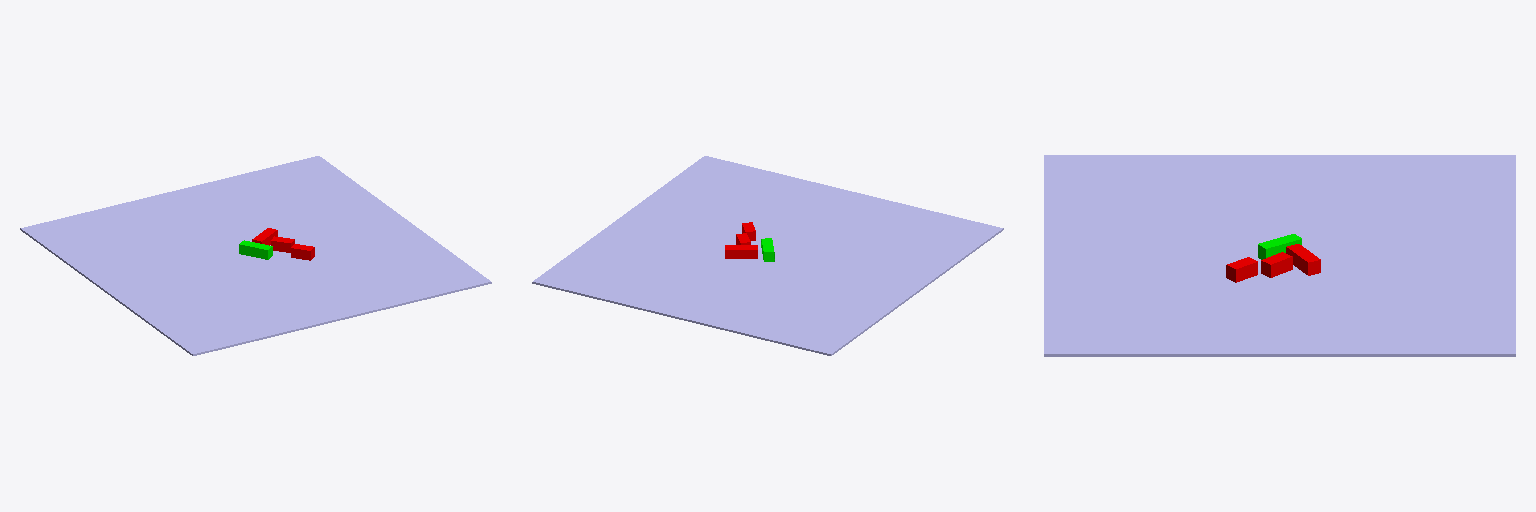
The robot description file, URDF, robot "continuous_space":
<?xml version="1.0"?>
<!-- created with Phobos 1.0.1 "Capricious Choutengan" -->
  <robot name="continuous_space">

    <link name="base_link">
      <inertial>
        <origin xyz="0 0 0" rpy="0 0 0"/>
        <mass value="0.001"/>
        <inertia ixx="0.001" ixy="0" ixz="0" iyy="0.001" iyz="0" izz="0.001"/>
      </inertial>
      <visual name="visual_cube_base">
        <origin xyz="0 0 0" rpy="0 0 0"/>
        <geometry>
          <box size="32.0 32.0 0.2"/>
        </geometry>
        <material name="lavender"/>
      </visual>
      <collision name="collision_cube_base">
        <origin xyz="0 0 0" rpy="0 0 0"/>
        <geometry>
          <box size="32.0 32.0 0.2"/>
        </geometry>
      </collision>
    </link>

    <link name="link_0">
      <inertial>
        <origin xyz="0 0 0" rpy="0 0 0"/>
        <mass value="0.001"/>
        <inertia ixx="0.001" ixy="0" ixz="0" iyy="0.001" iyz="0" izz="0.001"/>
      </inertial>
      <visual name="visual_cube_0">
        <origin xyz="0 0 0" rpy="0 0 0"/>
        <geometry>
          <box size="3.0 1.0 1.0"/>
        </geometry>
        <material name="green"/>
      </visual>
      <collision name="collision_cube_0">
        <origin xyz="0 0 0" rpy="0 0 0"/>
        <geometry>
          <box size="3.0 1.0 1.0"/>
        </geometry>
      </collision>
    </link>

    <link name="link_1">
      <inertial>
        <origin xyz="0 0 0" rpy="0 0 0"/>
        <mass value="0.001"/>
        <inertia ixx="0.001" ixy="0" ixz="0" iyy="0.001" iyz="0" izz="0.001"/>
      </inertial>
      <visual name="visual_cube_1">
        <origin xyz="0 0 0" rpy="0 0 0"/>
        <geometry>
          <box size="3.0 1.0 1.0"/>
        </geometry>
        <material name="red"/>
      </visual>
      <collision name="collision_cube_1">
        <origin xyz="0 0 0" rpy="0 0 0"/>
        <geometry>
          <box size="3.0 1.0 1.0"/>
        </geometry>
      </collision>
    </link>

    <link name="link_2">
      <inertial>
        <origin xyz="0 0 0" rpy="0 0 0"/>
        <mass value="0.001"/>
        <inertia ixx="0.001" ixy="0" ixz="0" iyy="0.001" iyz="0" izz="0.001"/>
      </inertial>
      <visual name="visual_cube_2">
        <origin xyz="0 0 0" rpy="0 0 0"/>
        <geometry>
          <box size="1.0 1.0 2.0"/>
        </geometry>
        <material name="red"/>
      </visual>
      <collision name="collision_cube_2">
        <origin xyz="0 0 0" rpy="0 0 0"/>
        <geometry>
          <box size="1.0 1.0 2.0"/>
        </geometry>
      </collision>
    </link>

    <link name="link_3">
      <inertial>
        <origin xyz="0 0 0" rpy="0 0 0"/>
        <mass value="0.001"/>
        <inertia ixx="0.001" ixy="0" ixz="0" iyy="0.001" iyz="0" izz="0.001"/>
      </inertial>
      <visual name="visual_cube_3">
        <origin xyz="0 0 0" rpy="0 0 0"/>
        <geometry>
          <box size="1.0 1.0 2.0"/>
        </geometry>
        <material name="red"/>
      </visual>
      <collision name="collision_cube_3">
        <origin xyz="0 0 0" rpy="0 0 0"/>
        <geometry>
          <box size="1.0 1.0 2.0"/>
        </geometry>
      </collision>
    </link>

    <joint name="link_0" type="revolute">
      <origin xyz="0 0 0.6" rpy="0 0 -0.97753"/>
      <parent link="base_link"/>
      <child link="link_0"/>
      <axis xyz="0 0 1.0"/>
      <limit lower="-1.82033" upper="0" effort="0" velocity="0"/>
    </joint>

    <joint name="link_1" type="revolute">
      <origin xyz="1.89729 1.60702 0.6" rpy="0 0 -2.61769"/>
      <parent link="base_link"/>
      <child link="link_1"/>
      <axis xyz="0 0 1.0"/>
      <limit lower="0" upper="1.58552" effort="0" velocity="0"/>
    </joint>

    <joint name="link_2" type="prismatic">
      <origin xyz="2.7436 -0.22319 0.6" rpy="-1.5708 0 -2.39786"/>
      <parent link="base_link"/>
      <child link="link_2"/>
      <axis xyz="0 0 1.0"/>
      <limit lower="0" upper="3.81949" effort="0" velocity="0"/>
    </joint>

    <joint name="link_3" type="prismatic">
      <origin xyz="3.51572 -2.56209 0.6" rpy="-1.5708 0 -2.44487"/>
      <parent link="base_link"/>
      <child link="link_3"/>
      <axis xyz="0 0 1.0"/>
      <limit lower="0" upper="3.93321" effort="0" velocity="0"/>
    </joint>

    <material name="green">
      <color rgba="0 1.0 0 1.0"/>
    </material>

    <material name="lavender">
      <color rgba="0.8 0.8 1.0 1.0"/>
    </material>

    <material name="red">
      <color rgba="1.0 0 0 1.0"/>
    </material>

  </robot>

--- Render facts (derived) ---
3 views of the same robot in one strip: view 1: azimuth 30°, elevation 25°; view 2: azimuth 150°, elevation 25°; view 3: azimuth 270°, elevation 25° (orthographic).
Model continuous_space with 5 links and 4 joints (2 revolute, 2 prismatic), rooted at base_link, posed all joints at 0.
Visible links, largest first — view 1: base_link; view 2: base_link; view 3: base_link, link_1, link_2, link_3, link_0.
Boxes of the visible links, bbox=[...] form: base_link: bbox=[20, 156, 491, 355]; base_link: bbox=[532, 156, 1003, 355]; base_link: bbox=[1044, 155, 1515, 356]; link_1: bbox=[1286, 244, 1320, 275]; link_2: bbox=[1261, 252, 1292, 277]; link_3: bbox=[1226, 257, 1257, 282]; link_0: bbox=[1258, 234, 1301, 259].
Size in the robot's own frame: 32 by 32 by 1.2 metres.
Geometry: primitives only (box / cylinder / sphere), no mesh files.
